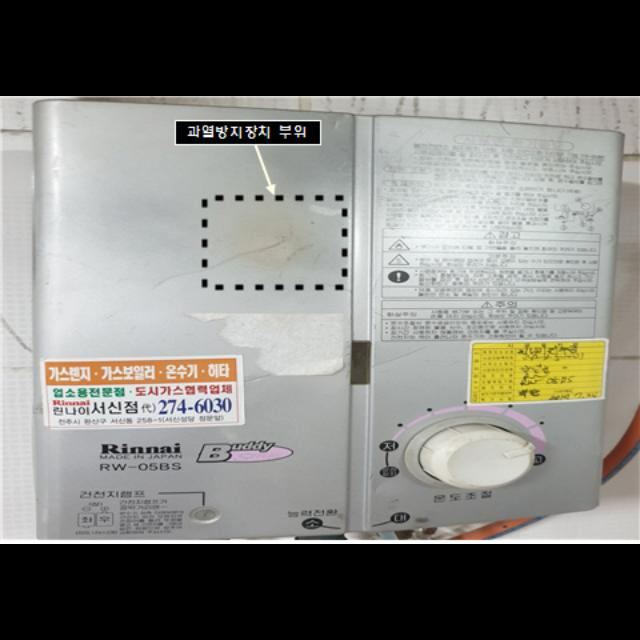Boiler: (28, 109, 614, 542)
